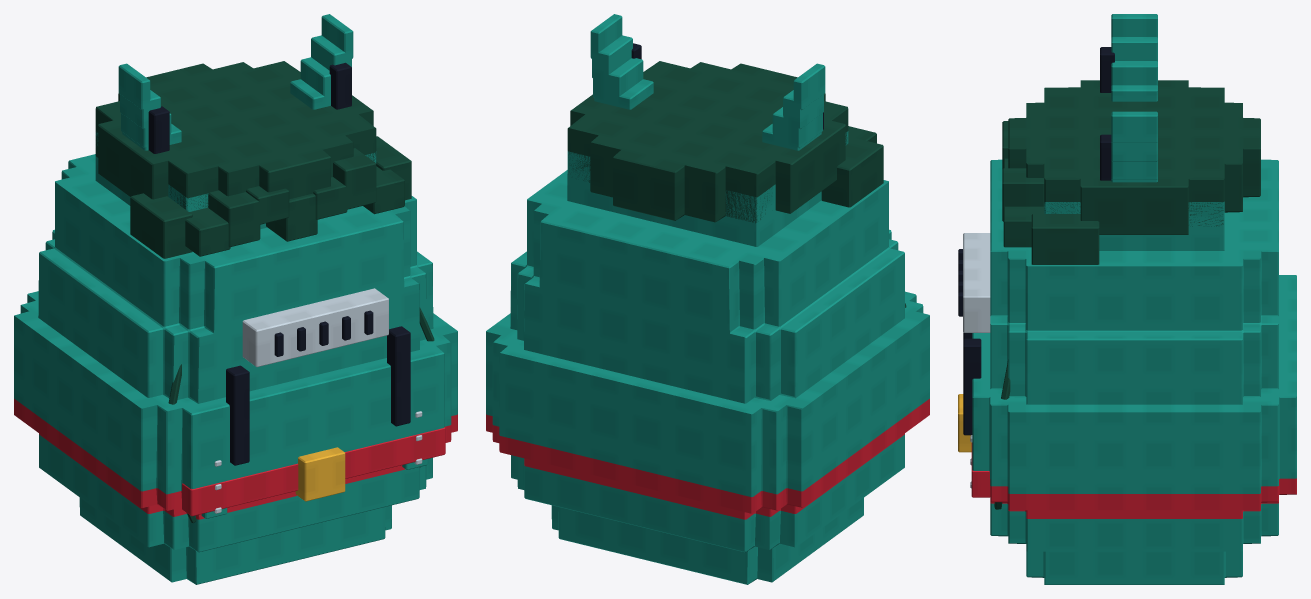
File: Deku_Egg.fbx
3 renders of one model, left to right at view 1: azimuth 30°, elevation 25°; view 2: azimuth 150°, elevation 25°; view 3: azimuth 270°, elevation 25°, orthographic.
Parts seen in each view (by area): view 1: Deku_Egg; view 2: Deku_Egg; view 3: Deku_Egg.
Part boxes in pixels (x1,y1,x2,y2): Deku_Egg: (14, 14, 457, 584); Deku_Egg: (486, 14, 929, 584); Deku_Egg: (958, 14, 1296, 584).
Size of the model in its own units: 224 by 320 by 210.
6 materials, 6 textured.
